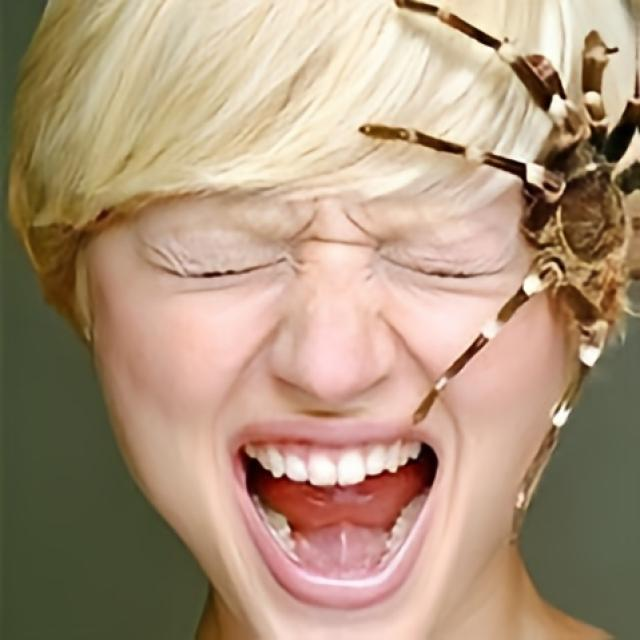Fear: (79, 29, 596, 632)
